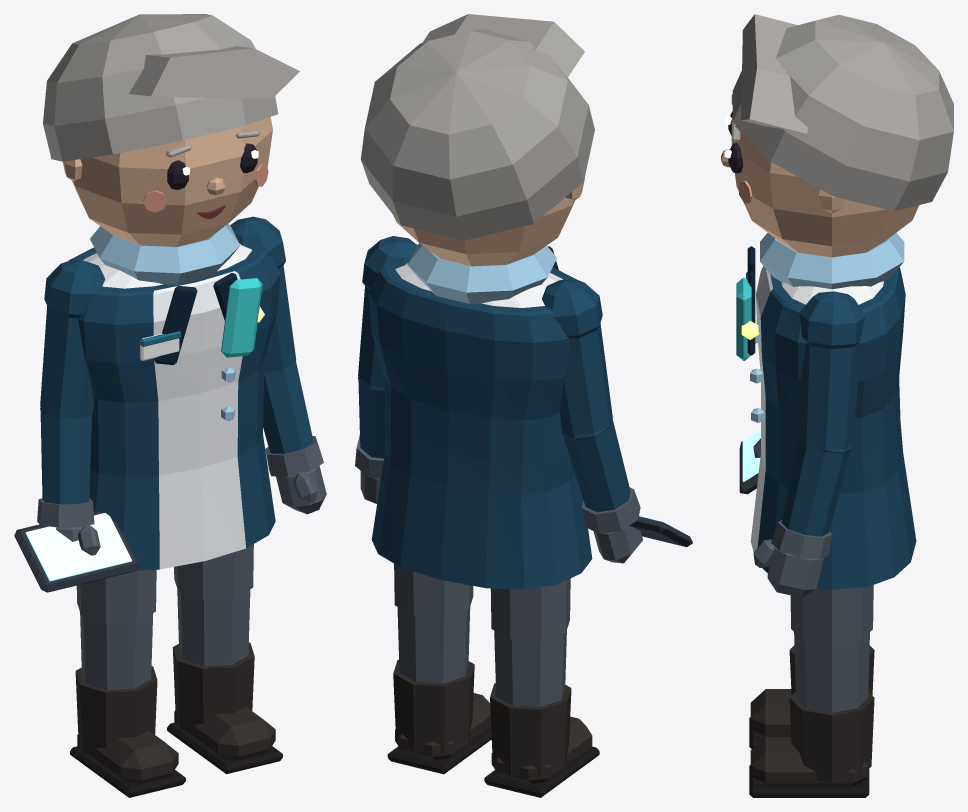
File: man_fro.glb
3 renders of one model, left to right at view 1: azimuth 30°, elevation 25°; view 2: azimuth 150°, elevation 25°; view 3: azimuth 270°, elevation 25°, orthographic.
Parts seen in each view (by area): view 1: mantel, haare, kopf, arm_r, schuh_r, schuh_l, bein_r, arm_l, bein_l, kragen, gegenstand_terminal, gesicht (+5 smaller); view 2: mantel, haare, arm_r, bein_r, schuh_r, schuh_l, bein_l, arm_l, kragen, kopf, torso, hand_r (+1 smaller); view 3: haare, mantel, arm_l, schuh_l, kopf, bein_l, kragen, schuh_r, hand_l, torso, gegenstand_terminal, gesicht (+1 smaller).
Part boxes in pixels (x1=…): mantel: x1=68, y1=247, x2=280, y2=570; haare: x1=43, y1=14, x2=299, y2=161; kopf: x1=62, y1=117, x2=272, y2=246; arm_r: x1=37, y1=260, x2=105, y2=527; schuh_r: x1=70, y1=666, x2=185, y2=797; schuh_l: x1=167, y1=642, x2=282, y2=774; bein_r: x1=76, y1=569, x2=156, y2=689; arm_l: x1=230, y1=216, x2=323, y2=476; bein_l: x1=174, y1=544, x2=253, y2=666; kragen: x1=90, y1=223, x2=262, y2=357; gegenstand_terminal: x1=14, y1=511, x2=139, y2=592; gesicht: x1=143, y1=129, x2=268, y2=218; mantel: x1=368, y1=267, x2=592, y2=589; haare: x1=360, y1=14, x2=594, y2=240; arm_r: x1=542, y1=279, x2=640, y2=533; bein_r: x1=490, y1=578, x2=570, y2=707; schuh_r: x1=484, y1=683, x2=599, y2=797; schuh_l: x1=387, y1=659, x2=491, y2=774; bein_l: x1=394, y1=563, x2=473, y2=683; arm_l: x1=355, y1=236, x2=417, y2=478; kragen: x1=407, y1=243, x2=556, y2=303; kopf: x1=393, y1=177, x2=585, y2=266; torso: x1=395, y1=263, x2=562, y2=307; hand_r: x1=593, y1=525, x2=642, y2=563; haare: x1=732, y1=14, x2=953, y2=211; mantel: x1=750, y1=266, x2=916, y2=589; arm_l: x1=771, y1=291, x2=865, y2=559; schuh_l: x1=749, y1=691, x2=874, y2=797; kopf: x1=731, y1=116, x2=919, y2=257; bein_l: x1=790, y1=585, x2=873, y2=712; kragen: x1=736, y1=232, x2=904, y2=360; schuh_r: x1=749, y1=645, x2=874, y2=748; hand_l: x1=753, y1=539, x2=823, y2=597; torso: x1=781, y1=281, x2=883, y2=304; gegenstand_terminal: x1=739, y1=429, x2=760, y2=494; gesicht: x1=721, y1=94, x2=752, y2=203.
Bounding box in the file's own units: 0.0122 × 0.0276 × 0.00798.
